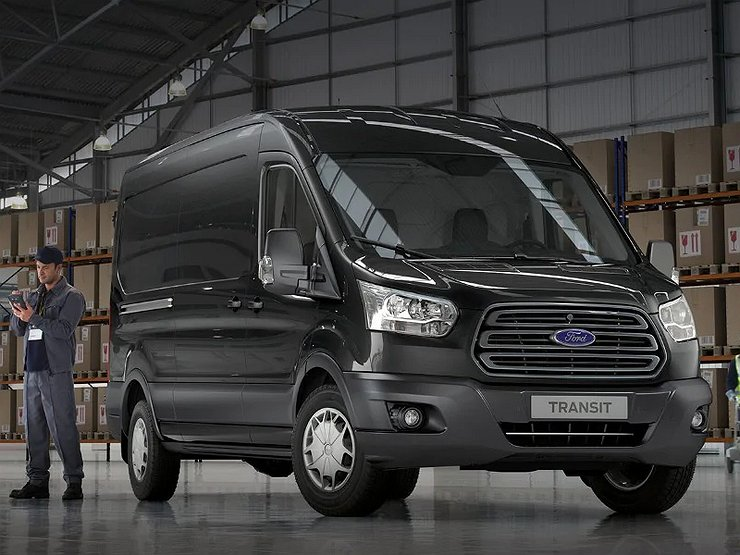van: (107, 104, 710, 521)
